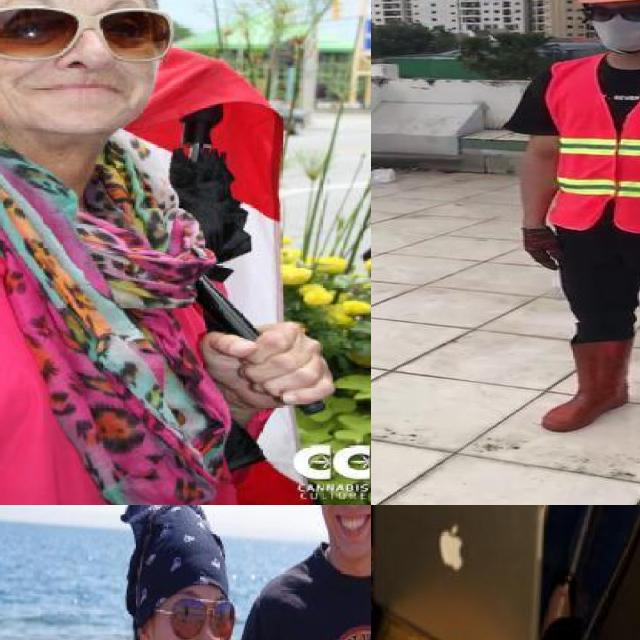boots: (542, 340, 632, 432)
face_mask: (581, 0, 640, 52)
face_nomask: (0, 0, 161, 110), (158, 591, 232, 640), (318, 505, 371, 536)
glasses: (0, 0, 172, 61), (145, 597, 231, 640), (576, 0, 640, 25)
hand_glove: (520, 228, 562, 271)
hand_noglove: (195, 313, 338, 419)
head_nohelmet: (260, 505, 371, 640), (125, 505, 230, 614)
person: (0, 0, 339, 505), (503, 0, 640, 464), (38, 505, 236, 640), (371, 505, 548, 640), (568, 505, 640, 640)
vest: (550, 56, 640, 238)
